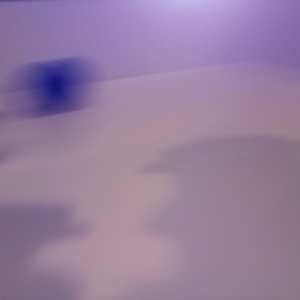dead_ball: (15, 60, 93, 114)
